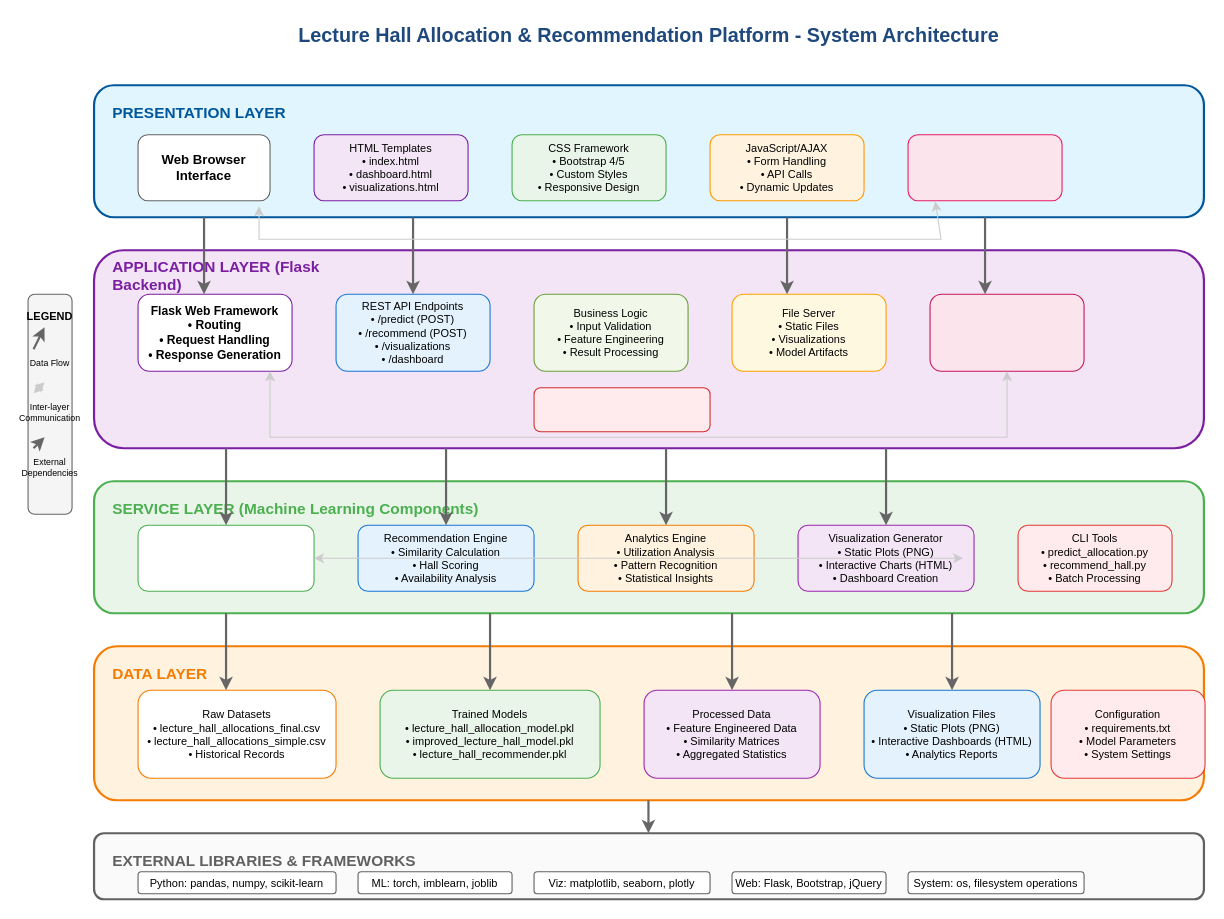
The diagram is 1224 pixels wide and 919 high, and some of its shapes have lost their labels. The centre of each missing label's shape, as x and y in pixels:
Allocation Prediction • Basic Model • Improved Model • Feature Processing: the point at 225,557
Interactive Dashboards • Plotly Charts • Usage Analytics • Real-time Updates: the point at 984,167
Session Management • User State • Form Data • Response Caching: the point at 1006,332
web_interface.py Main Flask Application: the point at 621,409
